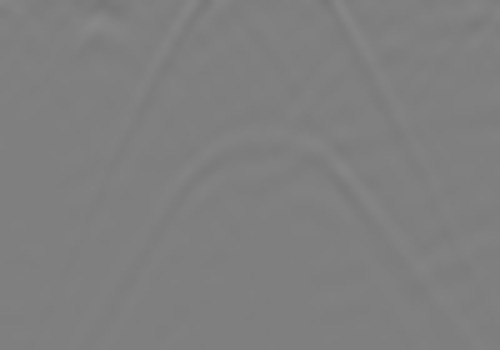hyperbola: (94, 123, 436, 334)
